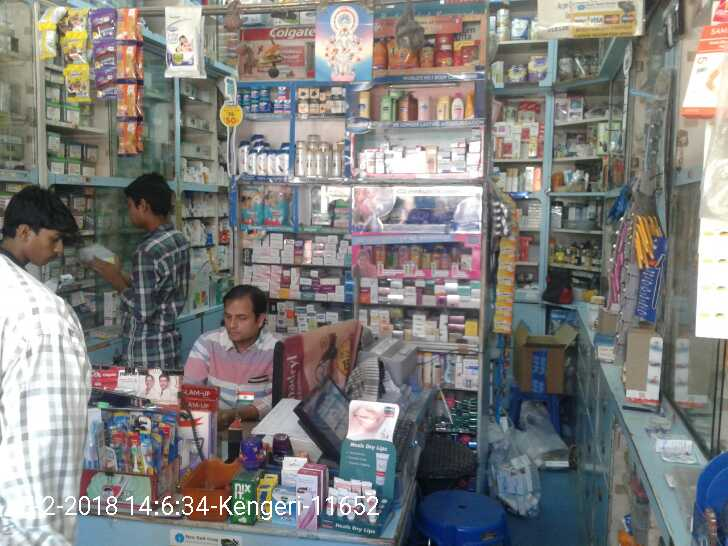beauty: (322, 147, 346, 175), (236, 140, 255, 174), (300, 150, 320, 178), (256, 149, 275, 178), (275, 149, 293, 174), (330, 88, 346, 116), (308, 87, 322, 115), (295, 141, 305, 178), (297, 83, 308, 116)
pharmacy: (235, 179, 264, 227), (265, 184, 292, 224), (236, 84, 270, 111), (273, 85, 293, 115)
